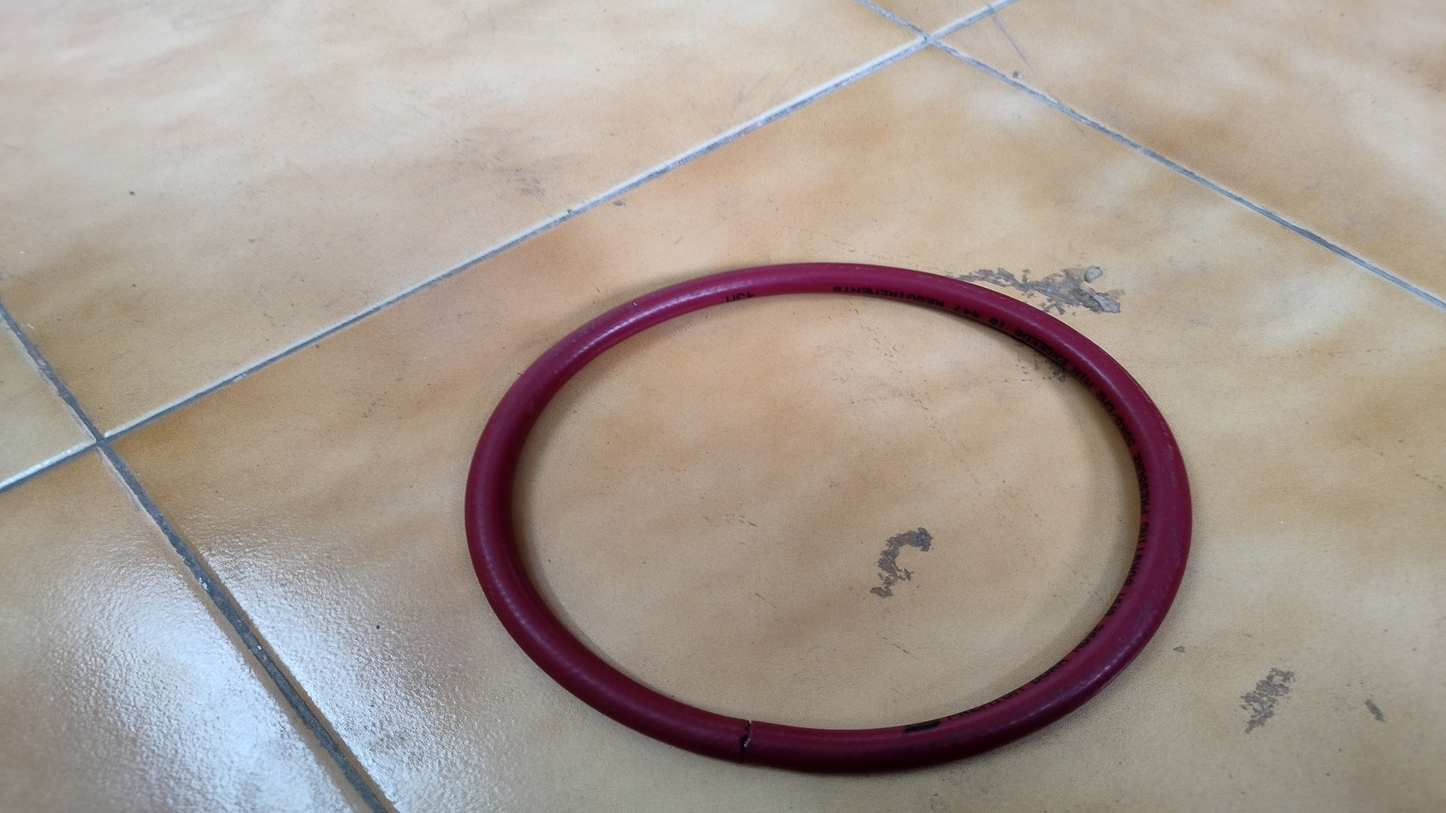Red ring: (464, 264, 1192, 770)
